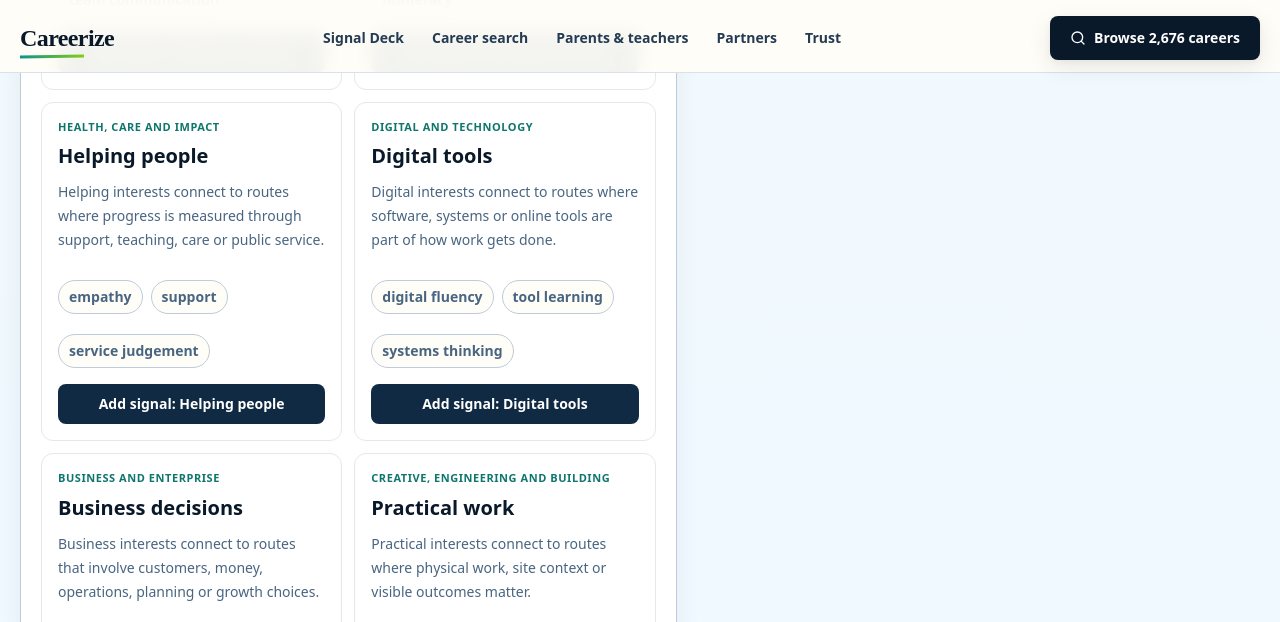
Test: Careerize Signal Deck Studio and routed pathway pages › opens a dedicated pathway detail route from a Signal Deck result
(page scrolled)
What coordinates should you click on to do the following:
click the button "Add signal: Digital tools"
I would click on:
 (505, 404)
Its box is [371,384,639,424].
(page scrolled)
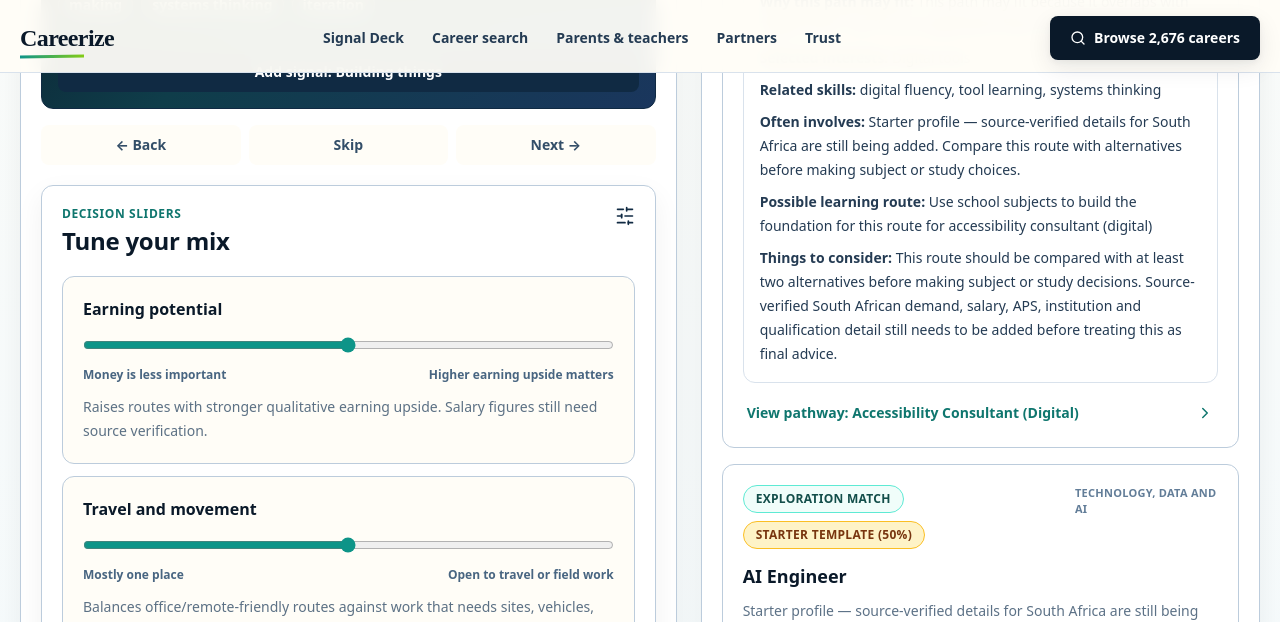
What coordinates should you click on to do the following:
click the button "View pathway: Accessibility Consultant (Digital)"
I would click on:
 (980, 404)
Its box is [743,382,1218,426].
(page scrolled)
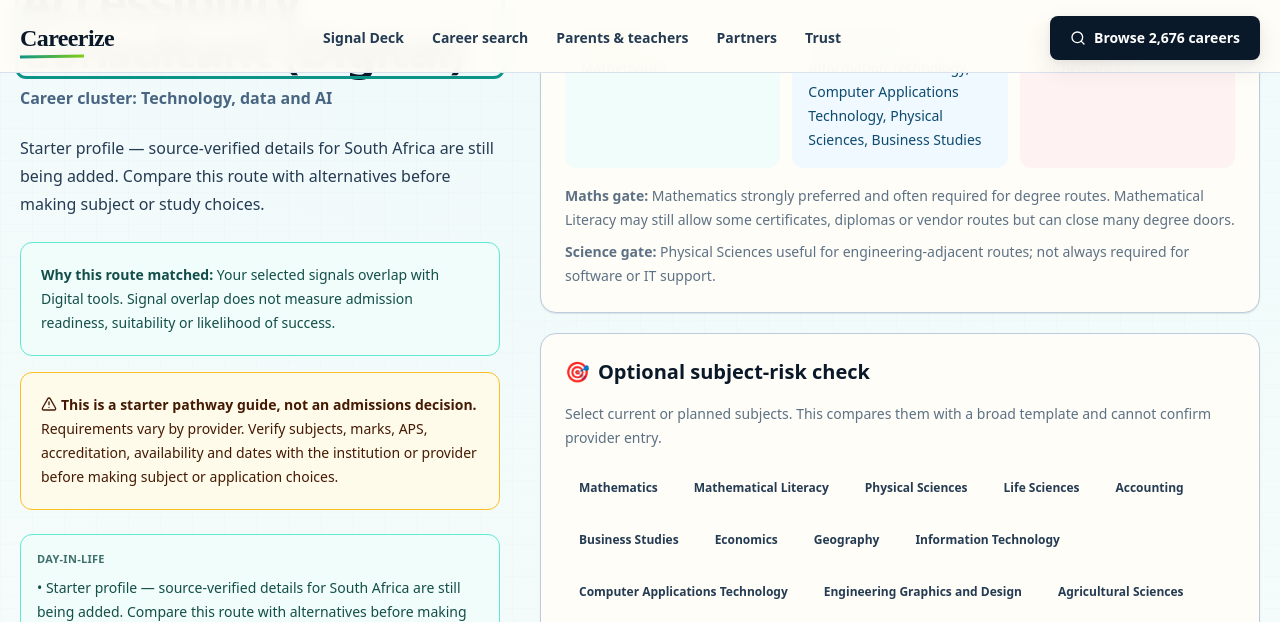
Result: the text "This is a starter pathway guide, not an admissions decision." is shown at [41,395,477,414]
